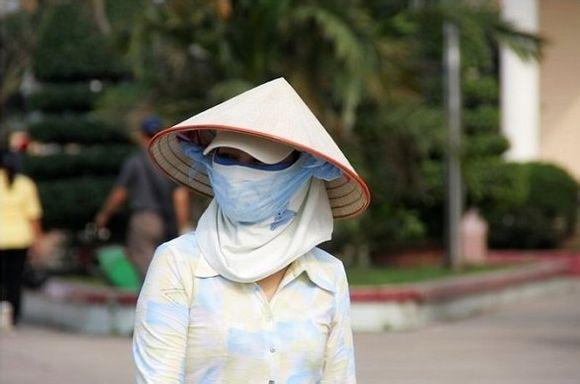OK: (213, 142, 292, 221)
